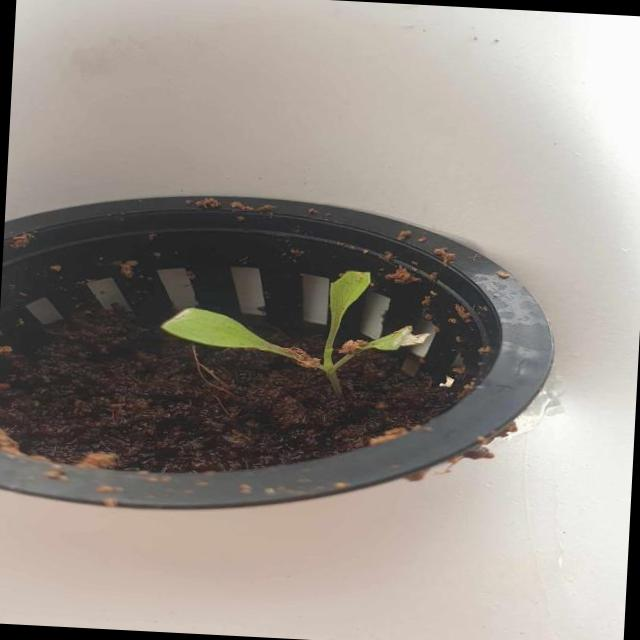Lettuce-Not-Ready-to-Harvest: (160, 271, 410, 394)
